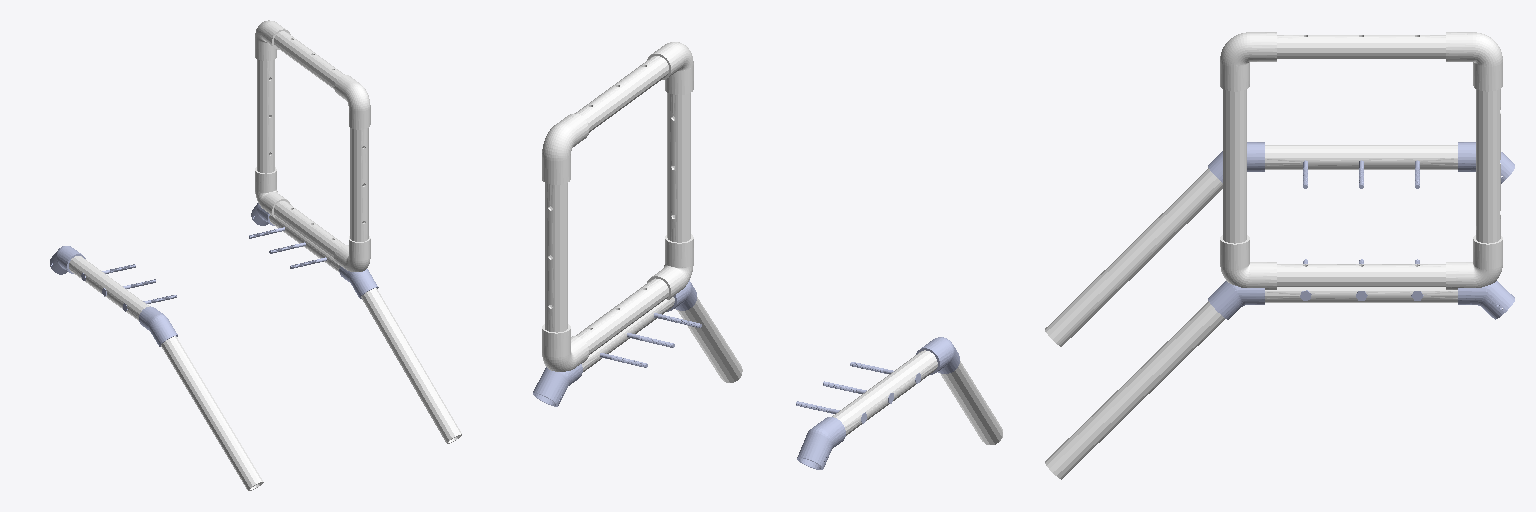
robot.urdf — Rover:
<?xml version="1.0" encoding="utf-8"?>
<!-- This URDF was automatically created by SolidWorks to URDF Exporter! Originally created by [author] ([email redacted]) 
     Commit Version: 1.6.0-4-g7f85cfe  Build Version: 1.6.7995.38578
     For more information, please see http://wiki.ros.org/sw_urdf_exporter -->
<robot
  name="Rover">
  <link
    name="base_link">
    <inertial>
      <origin
        xyz="-0.29968731948345 -0.283392114189934 0.0150546907286856"
        rpy="0 0 0" />
      <mass
        value="2.34759592693503" />
      <inertia
        ixx="0.015530206027633"
        ixy="4.639400975453E-09"
        ixz="-4.93691539468484E-08"
        iyy="0.0155302069570008"
        iyz="1.66552412330082E-08"
        izz="0.0296746402403189" />
    </inertial>
    <visual>
      <origin
        xyz="0 0 0"
        rpy="0 0 0" />
      <geometry>
        <mesh
          filename="package://Rover/meshes/base_link.STL" />
      </geometry>
      <material
        name="">
        <color
          rgba="1 1 1 1" />
      </material>
    </visual>
    <collision>
      <origin
        xyz="0 0 0"
        rpy="0 0 0" />
      <geometry>
        <mesh
          filename="package://Rover/meshes/base_link.STL" />
      </geometry>
    </collision>
  </link>
  <link
    name="j1">
    <inertial>
      <origin
        xyz="-2.96759241261157E-06 -3.56797101691564E-06 0.0752200553446624"
        rpy="0 0 0" />
      <mass
        value="0.0124427599561808" />
      <inertia
        ixx="2.88418476788695E-05"
        ixy="-6.3944784898376E-10"
        ixz="1.80748708345529E-09"
        iyy="2.88418985524994E-05"
        iyz="2.83899232833159E-09"
        izz="1.79907701813498E-07" />
    </inertial>
    <visual>
      <origin
        xyz="0 0 0"
        rpy="0 0 0" />
      <geometry>
        <mesh
          filename="package://Rover/meshes/j1.STL" />
      </geometry>
      <material
        name="">
        <color
          rgba="0.792156862745098 0.819607843137255 0.933333333333333 1" />
      </material>
    </visual>
    <collision>
      <origin
        xyz="0 0 0"
        rpy="0 0 0" />
      <geometry>
        <mesh
          filename="package://Rover/meshes/j1.STL" />
      </geometry>
    </collision>
  </link>
  <joint
    name="j1j"
    type="fixed">
    <origin
      xyz="-0.6407 -0.17089 0.017157"
      rpy="1.6143 -0.9734 1.5349" />
    <parent
      link="base_link" />
    <child
      link="j1" />
    <axis
      xyz="0 0 1" />
  </joint>
  <link
    name="j2">
    <inertial>
      <origin
        xyz="-4.02273658009489E-06 3.72978937351887E-06 0.0752202712419333"
        rpy="0 0 0" />
      <mass
        value="0.0124428349830095" />
      <inertia
        ixx="2.88420137667292E-05"
        ixy="-6.38976900836879E-10"
        ixz="2.50481628728732E-09"
        iyy="2.88420685680027E-05"
        iyz="-1.61918499360895E-09"
        izz="1.80003992182993E-07" />
    </inertial>
    <visual>
      <origin
        xyz="0 0 0"
        rpy="0 0 0" />
      <geometry>
        <mesh
          filename="package://Rover/meshes/j2.STL" />
      </geometry>
      <material
        name="">
        <color
          rgba="0.792156862745098 0.819607843137255 0.933333333333333 1" />
      </material>
    </visual>
    <collision>
      <origin
        xyz="0 0 0"
        rpy="0 0 0" />
      <geometry>
        <mesh
          filename="package://Rover/meshes/j2.STL" />
      </geometry>
    </collision>
  </link>
  <joint
    name="j2j"
    type="fixed">
    <origin
      xyz="-0.6407 -0.28339 0.017157"
      rpy="1.6003 0.59568 1.5874" />
    <parent
      link="base_link" />
    <child
      link="j2" />
    <axis
      xyz="0 0 1" />
  </joint>
  <link
    name="j3">
    <inertial>
      <origin
        xyz="2.40487493663455E-06 5.31688107424655E-06 0.0752233796482584"
        rpy="0 0 0" />
      <mass
        value="0.0124439057039495" />
      <inertia
        ixx="2.8843781866585E-05"
        ixy="-6.36853067712029E-10"
        ixz="-1.42399288203006E-09"
        iyy="2.88438358113457E-05"
        iyz="-2.62458879680516E-09"
        izz="1.79926169745957E-07" />
    </inertial>
    <visual>
      <origin
        xyz="0 0 0"
        rpy="0 0 0" />
      <geometry>
        <mesh
          filename="package://Rover/meshes/j3.STL" />
      </geometry>
      <material
        name="">
        <color
          rgba="0.792156862745098 0.819607843137255 0.933333333333333 1" />
      </material>
    </visual>
    <collision>
      <origin
        xyz="0 0 0"
        rpy="0 0 0" />
      <geometry>
        <mesh
          filename="package://Rover/meshes/j3.STL" />
      </geometry>
    </collision>
  </link>
  <joint
    name="j3j"
    type="fixed">
    <origin
      xyz="-0.6407 -0.39589 0.017157"
      rpy="-1.6324 1.1627 -1.6274" />
    <parent
      link="base_link" />
    <child
      link="j3" />
    <axis
      xyz="0 0 1" />
  </joint>
  <link
    name="j4">
    <inertial>
      <origin
        xyz="-1.5190385564412E-06 7.75421974019697E-07 0.0752211304714997"
        rpy="0 0 0" />
      <mass
        value="0.0124431312114767" />
      <inertia
        ixx="2.88424934018769E-05"
        ixy="-6.61314791050855E-10"
        ixz="9.53139821032617E-10"
        iyy="2.88425478560905E-05"
        iyz="1.7662674540895E-10"
        izz="1.79959495452164E-07" />
    </inertial>
    <visual>
      <origin
        xyz="0 0 0"
        rpy="0 0 0" />
      <geometry>
        <mesh
          filename="package://Rover/meshes/j4.STL" />
      </geometry>
      <material
        name="">
        <color
          rgba="0.792156862745098 0.819607843137255 0.933333333333333 1" />
      </material>
    </visual>
    <collision>
      <origin
        xyz="0 0 0"
        rpy="0 0 0" />
      <geometry>
        <mesh
          filename="package://Rover/meshes/j4.STL" />
      </geometry>
    </collision>
  </link>
  <joint
    name="j4j"
    type="fixed">
    <origin
      xyz="0.042684 -0.17089 0.014366"
      rpy="-1.5629 -0.044424 1.5704" />
    <parent
      link="base_link" />
    <child
      link="j4" />
    <axis
      xyz="0 0 1" />
  </joint>
  <link
    name="j5">
    <inertial>
      <origin
        xyz="-1.51837272321931E-06 7.82827667751562E-07 0.0752211314946248"
        rpy="0 0 0" />
      <mass
        value="0.0124431315637828" />
      <inertia
        ixx="2.8842494014167E-05"
        ixy="-6.61313567795625E-10"
        ixz="9.52780391010385E-10"
        iyy="2.88425484719197E-05"
        iyz="1.72093086640139E-10"
        izz="1.79959544238957E-07" />
    </inertial>
    <visual>
      <origin
        xyz="0 0 0"
        rpy="0 0 0" />
      <geometry>
        <mesh
          filename="package://Rover/meshes/j5.STL" />
      </geometry>
      <material
        name="">
        <color
          rgba="0.792156862745098 0.819607843137255 0.933333333333333 1" />
      </material>
    </visual>
    <collision>
      <origin
        xyz="0 0 0"
        rpy="0 0 0" />
      <geometry>
        <mesh
          filename="package://Rover/meshes/j5.STL" />
      </geometry>
    </collision>
  </link>
  <joint
    name="j5j"
    type="fixed">
    <origin
      xyz="0.042684 -0.28339 0.014366"
      rpy="-1.5629 -0.04883 1.5704" />
    <parent
      link="base_link" />
    <child
      link="j5" />
    <axis
      xyz="0 0 1" />
  </joint>
  <link
    name="j6">
    <inertial>
      <origin
        xyz="-1.43669483909648E-06 1.16870107200184E-06 0.0752212063131131"
        rpy="0 0 0" />
      <mass
        value="0.0124431573300757" />
      <inertia
        ixx="2.88425383986866E-05"
        ixy="-6.61237350132657E-10"
        ixz="9.05290738213497E-10"
        iyy="2.88425930290167E-05"
        iyz="-6.43592825617656E-11"
        izz="1.79962020429486E-07" />
    </inertial>
    <visual>
      <origin
        xyz="0 0 0"
        rpy="0 0 0" />
      <geometry>
        <mesh
          filename="package://Rover/meshes/j6.STL" />
      </geometry>
      <material
        name="">
        <color
          rgba="0.792156862745098 0.819607843137255 0.933333333333333 1" />
      </material>
    </visual>
    <collision>
      <origin
        xyz="0 0 0"
        rpy="0 0 0" />
      <geometry>
        <mesh
          filename="package://Rover/meshes/j6.STL" />
      </geometry>
    </collision>
  </link>
  <joint
    name="j6j"
    type="fixed">
    <origin
      xyz="0.042684 -0.39589 0.014366"
      rpy="-1.5626 -0.28303 1.5685" />
    <parent
      link="base_link" />
    <child
      link="j6" />
    <axis
      xyz="0 0 1" />
  </joint>
  <link
    name="c1">
    <inertial>
      <origin
        xyz="5.67752564961665E-08 -7.50847038016866E-09 0.225000029977437"
        rpy="0 0 0" />
      <mass
        value="0.410430097030497" />
      <inertia
        ixx="0.0070579338237649"
        ixy="4.22623146548173E-10"
        ixz="-2.31977483593179E-09"
        iyy="0.00705640614879541"
        iyz="3.5007746864512E-11"
        izz="0.000210358543028732" />
    </inertial>
    <visual>
      <origin
        xyz="0 0 0"
        rpy="0 0 0" />
      <geometry>
        <mesh
          filename="package://Rover/meshes/c1.STL" />
      </geometry>
      <material
        name="">
        <color
          rgba="1 1 1 1" />
      </material>
    </visual>
    <collision>
      <origin
        xyz="0 0 0"
        rpy="0 0 0" />
      <geometry>
        <mesh
          filename="package://Rover/meshes/c1.STL" />
      </geometry>
    </collision>
  </link>
  <joint
    name="c1j"
    type="fixed">
    <origin
      xyz="-0.61421 -0.058392 0.01651"
      rpy="1.5708 0.024438 0" />
    <parent
      link="base_link" />
    <child
      link="c1" />
    <axis
      xyz="1 0 0" />
  </joint>
  <link
    name="c2">
    <inertial>
      <origin
        xyz="5.67752567563751E-08 -7.50847032812696E-09 0.225000029977437"
        rpy="0 0 0" />
      <mass
        value="0.410430097030497" />
      <inertia
        ixx="0.0070579338237649"
        ixy="4.22623146558338E-10"
        ixz="-2.31977484692852E-09"
        iyy="0.00705640614879542"
        iyz="3.50077453179087E-11"
        izz="0.000210358543028732" />
    </inertial>
    <visual>
      <origin
        xyz="0 0 0"
        rpy="0 0 0" />
      <geometry>
        <mesh
          filename="package://Rover/meshes/c2.STL" />
      </geometry>
      <material
        name="">
        <color
          rgba="1 1 1 1" />
      </material>
    </visual>
    <collision>
      <origin
        xyz="0 0 0"
        rpy="0 0 0" />
      <geometry>
        <mesh
          filename="package://Rover/meshes/c2.STL" />
      </geometry>
    </collision>
  </link>
  <joint
    name="c2j"
    type="fixed">
    <origin
      xyz="0.016185 -0.058392 0.014575"
      rpy="1.5708 0.0078878 0" />
    <parent
      link="base_link" />
    <child
      link="c2" />
    <axis
      xyz="1 0 0" />
  </joint>
  <link
    name="cj1">
    <inertial>
      <origin
        xyz="0.000131826367471173 0.00664780238235534 3.55632457926802E-07"
        rpy="0 0 0" />
      <mass
        value="0.109353843562398" />
      <inertia
        ixx="8.42944567415472E-05"
        ixy="-1.10261596875925E-07"
        ixz="1.83860497119778E-11"
        iyy="0.000130111255859567"
        iyz="-2.18138180307091E-11"
        izz="0.000133913187896849" />
    </inertial>
    <visual>
      <origin
        xyz="0 0 0"
        rpy="0 0 0" />
      <geometry>
        <mesh
          filename="package://Rover/meshes/cj1.STL" />
      </geometry>
      <material
        name="">
        <color
          rgba="0.792156862745098 0.819607843137255 0.933333333333333 1" />
      </material>
    </visual>
    <collision>
      <origin
        xyz="0 0 0"
        rpy="0 0 0" />
      <geometry>
        <mesh
          filename="package://Rover/meshes/cj1.STL" />
      </geometry>
    </collision>
  </link>
  <joint
    name="cj1j"
    type="fixed">
    <origin
      xyz="-0.61421 -0.033392 0.01651"
      rpy="-1.534 -0.39246 -1.5849" />
    <parent
      link="base_link" />
    <child
      link="cj1" />
    <axis
      xyz="0.022336 -0.053925 -0.9983" />
  </joint>
  <link
    name="cj2">
    <inertial>
      <origin
        xyz="0.000131820104037492 0.00664781764334291 3.36388961217488E-07"
        rpy="0 0 0" />
      <mass
        value="0.109353828693636" />
      <inertia
        ixx="8.42944502187915E-05"
        ixy="-1.10262752978596E-07"
        ixz="1.9648388055317E-11"
        iyy="0.000130111272001604"
        iyz="-3.30455749500826E-11"
        izz="0.000133913161375556" />
    </inertial>
    <visual>
      <origin
        xyz="0 0 0"
        rpy="0 0 0" />
      <geometry>
        <mesh
          filename="package://Rover/meshes/cj2.STL" />
      </geometry>
      <material
        name="">
        <color
          rgba="0.792156862745098 0.819607843137255 0.933333333333333 1" />
      </material>
    </visual>
    <collision>
      <origin
        xyz="0 0 0"
        rpy="0 0 0" />
      <geometry>
        <mesh
          filename="package://Rover/meshes/cj2.STL" />
      </geometry>
    </collision>
  </link>
  <joint
    name="cj2j"
    type="fixed">
    <origin
      xyz="0.016185 -0.033392 0.014575"
      rpy="-1.4072 -0.38797 -1.6331" />
    <parent
      link="base_link" />
    <child
      link="cj2" />
    <axis
      xyz="0.06066 -0.14645 -0.98736" />
    <limit
      lower="0"
      upper="0"
      effort="0"
      velocity="0" />
  </joint>
  <link
    name="cj3">
    <inertial>
      <origin
        xyz="-1.04072922590959E-06 0.00667385000080523 2.04672582215792E-07"
        rpy="0 0 0" />
      <mass
        value="0.109747781539409" />
      <inertia
        ixx="8.46147711907554E-05"
        ixy="-1.28966450767691E-10"
        ixz="7.98226318284799E-12"
        iyy="0.000130955724543017"
        iyz="-3.09556056201821E-11"
        izz="0.000134483633272278" />
    </inertial>
    <visual>
      <origin
        xyz="0 0 0"
        rpy="0 0 0" />
      <geometry>
        <mesh
          filename="package://Rover/meshes/cj3.STL" />
      </geometry>
      <material
        name="">
        <color
          rgba="0.792156862745098 0.819607843137255 0.933333333333333 1" />
      </material>
    </visual>
    <collision>
      <origin
        xyz="0 0 0"
        rpy="0 0 0" />
      <geometry>
        <mesh
          filename="package://Rover/meshes/cj3.STL" />
      </geometry>
    </collision>
  </link>
  <joint
    name="cj3j"
    type="fixed">
    <origin
      xyz="-0.61421 -0.53339 0.01651"
      rpy="-1.3008 0.37983 -1.4686" />
    <parent
      link="base_link" />
    <child
      link="cj3" />
    <axis
      xyz="0.10381 0.25063 0.9625" />
  </joint>
  <link
    name="cj4">
    <inertial>
      <origin
        xyz="-1.03940842066663E-06 0.00667384790392811 2.0580490882674E-07"
        rpy="0 0 0" />
      <mass
        value="0.109747784324217" />
      <inertia
        ixx="8.46147711871583E-05"
        ixy="-1.28853620842708E-10"
        ixz="7.86064004120761E-12"
        iyy="0.000130955724888274"
        iyz="-3.08972531370365E-11"
        izz="0.000134483633389463" />
    </inertial>
    <visual>
      <origin
        xyz="0 0 0"
        rpy="0 0 0" />
      <geometry>
        <mesh
          filename="package://Rover/meshes/cj4.STL" />
      </geometry>
      <material
        name="">
        <color
          rgba="0.792156862745098 0.819607843137255 0.933333333333333 1" />
      </material>
    </visual>
    <collision>
      <origin
        xyz="0 0 0"
        rpy="0 0 0" />
      <geometry>
        <mesh
          filename="package://Rover/meshes/cj4.STL" />
      </geometry>
    </collision>
  </link>
  <joint
    name="cj4j"
    type="fixed">
    <origin
      xyz="0.016185 -0.53339 0.014575"
      rpy="-1.3176 0.38137 -1.4748" />
    <parent
      link="base_link" />
    <child
      link="cj4" />
    <axis
      xyz="0.091906 0.22188 0.97073" />
    <limit
      lower="0"
      upper="0"
      effort="0"
      velocity="0" />
  </joint>
  <link
    name="c3">
    <inertial>
      <origin
        xyz="-3.33066907387547E-16 1.11022302462516E-16 0.25"
        rpy="0 0 0" />
      <mass
        value="0.459457925587507" />
      <inertia
        ixx="0.0096897762098382"
        ixy="0"
        ixz="1.02728155843002E-17"
        iyy="0.00968977620983819"
        iyz="-2.11419423634673E-18"
        izz="0.000235472186863597" />
    </inertial>
    <visual>
      <origin
        xyz="0 0 0"
        rpy="0 0 0" />
      <geometry>
        <mesh
          filename="package://Rover/meshes/c3.STL" />
      </geometry>
      <material
        name="">
        <color
          rgba="1 1 1 1" />
      </material>
    </visual>
    <collision>
      <origin
        xyz="0 0 0"
        rpy="0 0 0" />
      <geometry>
        <mesh
          filename="package://Rover/meshes/c3.STL" />
      </geometry>
    </collision>
  </link>
  <joint
    name="c3j"
    type="fixed">
    <origin
      xyz="-0.60983 -0.55107 -0.00061725"
      rpy="2.3347 0.13923 0.37497" />
    <parent
      link="base_link" />
    <child
      link="c3" />
    <axis
      xyz="0.92463 0.32903 0.19182" />
    <limit
      lower="0"
      upper="0"
      effort="0"
      velocity="0" />
  </joint>
  <link
    name="c4">
    <inertial>
      <origin
        xyz="6.66133814775094E-16 -8.60422844084496E-16 0.25"
        rpy="0 0 0" />
      <mass
        value="0.459457925587507" />
      <inertia
        ixx="0.00968977620983821"
        ixy="3.68628738645072E-18"
        ixz="-2.64070991636001E-17"
        iyy="0.0096897762098382"
        iyz="3.27361293454842E-17"
        izz="0.000235472186863603" />
    </inertial>
    <visual>
      <origin
        xyz="0 0 0"
        rpy="0 0 0" />
      <geometry>
        <mesh
          filename="package://Rover/meshes/c4.STL" />
      </geometry>
      <material
        name="">
        <color
          rgba="1 1 1 1" />
      </material>
    </visual>
    <collision>
      <origin
        xyz="0 0 0"
        rpy="0 0 0" />
      <geometry>
        <mesh
          filename="package://Rover/meshes/c4.STL" />
      </geometry>
    </collision>
  </link>
  <joint
    name="c4j"
    type="fixed">
    <origin
      xyz="0.020295 -0.55107 -0.0026187"
      rpy="2.4575 0.47916 0.74303" />
    <parent
      link="base_link" />
    <child
      link="c4" />
    <axis
      xyz="0.6571 0.73442 0.16982" />
    <limit
      lower="0"
      upper="0"
      effort="0"
      velocity="0" />
  </joint>
</robot>

--- Facts derived from the render (not from the file) ---
3 views of the same robot in one strip: view 1: azimuth 30°, elevation 25°; view 2: azimuth 150°, elevation 25°; view 3: azimuth 270°, elevation 25° (orthographic).
Model Rover with 15 links and 14 joints (14 fixed), rooted at base_link, posed all joints at 0.
Visible links, largest first — view 1: base_link, c4, c3, c1, cj3, c2, cj4, cj1; view 2: base_link, c1, c3, c4, cj1, cj2, c2, cj3; view 3: base_link, c3, c4, c1, c2, cj2, cj4, cj1, cj3.
Link boxes in pixels (x1,y1,x2,y2): base_link: [255, 20, 370, 271]; c4: [361, 288, 461, 443]; c3: [161, 336, 263, 490]; c1: [69, 256, 149, 320]; cj3: [139, 306, 177, 346]; c2: [269, 215, 339, 272]; cj4: [339, 266, 378, 298]; cj1: [50, 246, 85, 274]; base_link: [542, 42, 693, 371]; c1: [832, 350, 937, 435]; c3: [940, 361, 1002, 444]; c4: [677, 297, 742, 382]; cj1: [797, 417, 845, 469]; cj2: [533, 364, 582, 406]; c2: [582, 297, 674, 371]; cj3: [916, 337, 959, 374]; base_link: [1220, 32, 1502, 289]; c3: [1045, 168, 1222, 346]; c4: [1045, 301, 1224, 479]; c1: [1265, 145, 1457, 169]; c2: [1265, 287, 1457, 302]; cj2: [1458, 281, 1514, 319]; cj4: [1208, 281, 1264, 319]; cj1: [1458, 142, 1514, 183]; cj3: [1208, 142, 1264, 182].
Bounding box of the posed robot: 0.7709 × 0.9489 × 0.9491 m (x, y, z).
15 mesh visuals loaded from 15 distinct referenced files (15 binary STL).